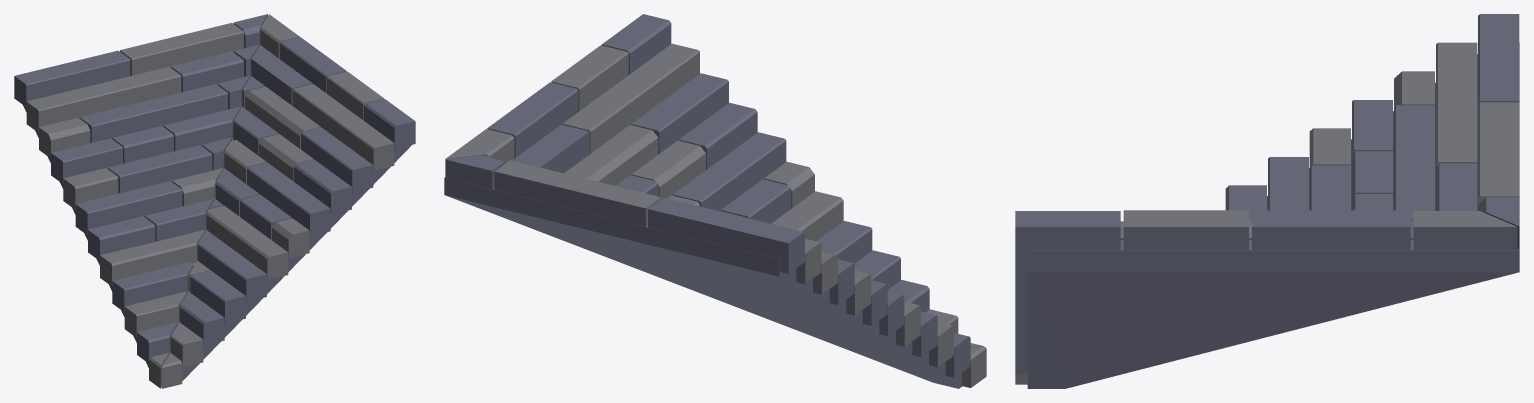
Rendered from Stairs_Corner_In.fbx.
3 views of the same model, side by side, from view 1: azimuth 30°, elevation 25°; view 2: azimuth 150°, elevation 25°; view 3: azimuth 270°, elevation 25° (orthographic). The views are drawn at different scales.
Parts seen in each view (by area): view 1: 1-Stairs_Corner_In; view 2: 1-Stairs_Corner_In; view 3: 1-Stairs_Corner_In.
Boxes of the visible parts, x1,y1,x2,y2 form: 1-Stairs_Corner_In: [14, 14, 415, 388]; 1-Stairs_Corner_In: [444, 14, 986, 388]; 1-Stairs_Corner_In: [1015, 14, 1519, 388].
Bounding box in the file's own units: 4 × 4 × 3.1.
